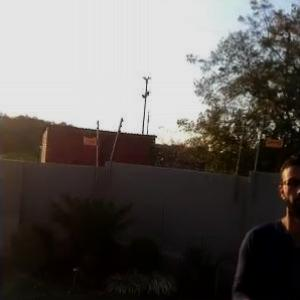follow: (231, 148, 299, 299)
